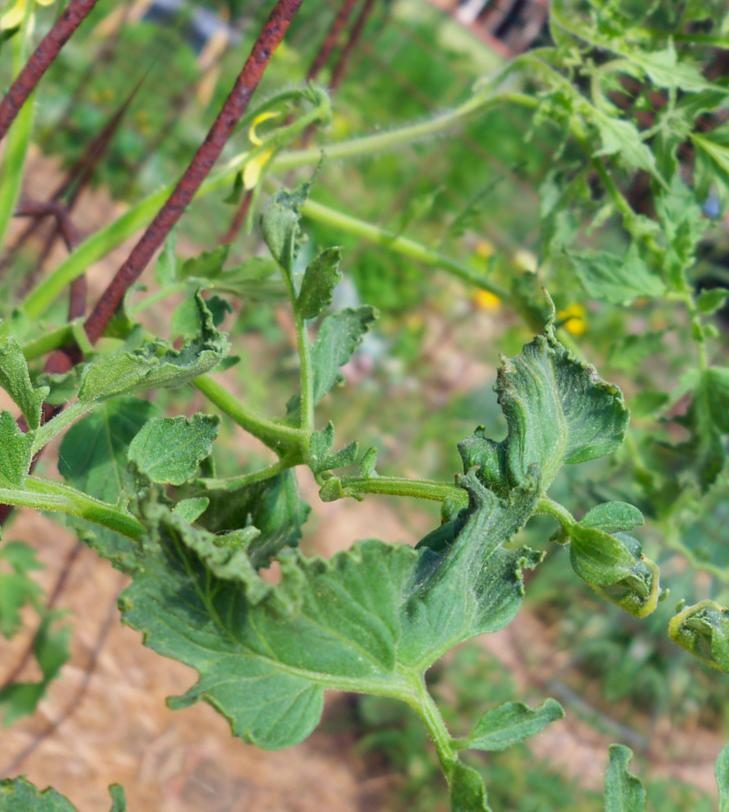Tomato leaf mosaic virus: (318, 285, 677, 718), (91, 427, 486, 806), (280, 277, 396, 417), (113, 378, 237, 505), (365, 734, 550, 812), (0, 372, 60, 567)
